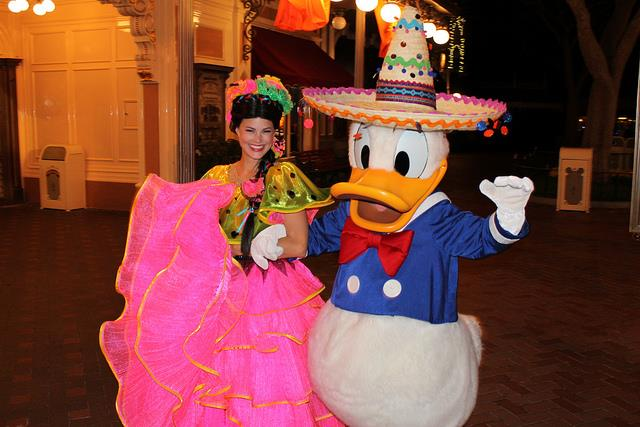Donald_Duck: (306, 115, 519, 421)
